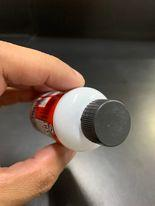-Bottle-: (30, 87, 131, 152)
